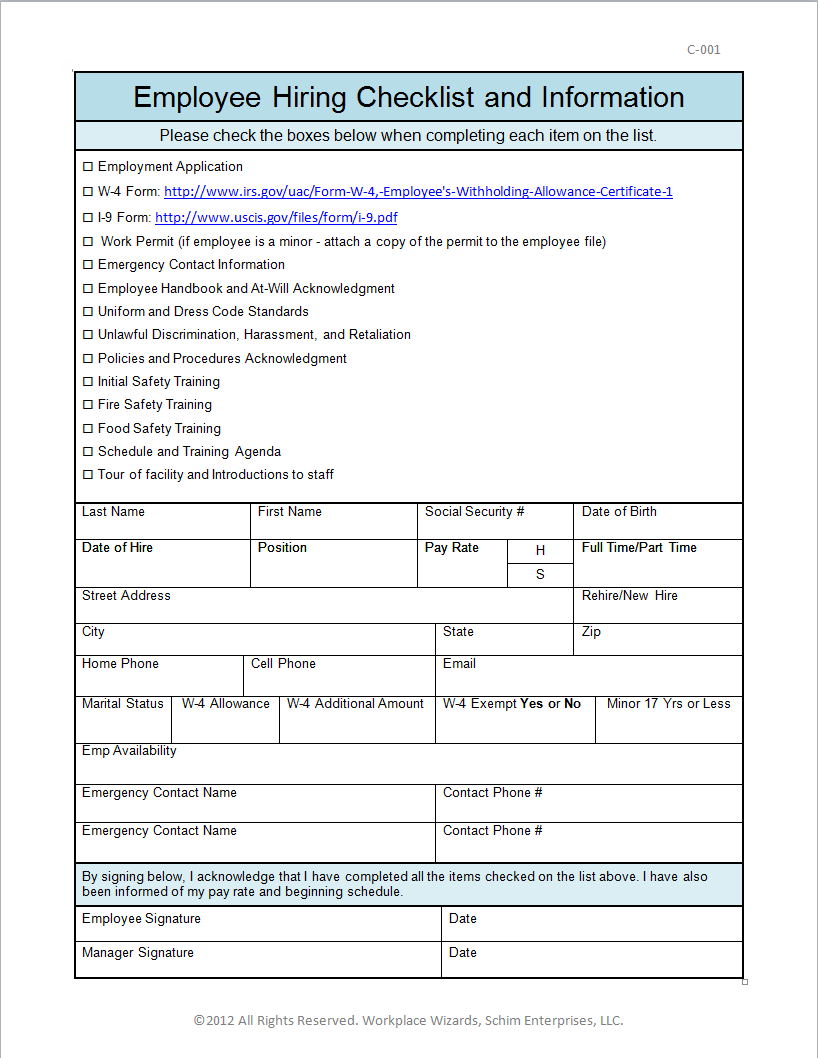checkbox: (80, 160, 95, 175), (79, 422, 94, 437), (80, 210, 96, 224), (80, 281, 96, 295), (79, 374, 95, 388), (81, 183, 94, 200), (81, 466, 94, 483), (81, 444, 94, 460), (81, 234, 94, 249), (80, 257, 95, 270), (81, 327, 94, 342), (81, 305, 95, 318), (80, 398, 94, 410), (82, 351, 93, 366)
textbox: (68, 735, 749, 792), (69, 582, 581, 630), (70, 815, 441, 867), (70, 777, 440, 826), (71, 900, 447, 947), (69, 937, 447, 983), (69, 618, 441, 663), (428, 778, 747, 829), (428, 650, 750, 700), (431, 817, 747, 867), (437, 935, 746, 984), (436, 900, 749, 946), (236, 650, 441, 703), (244, 533, 425, 592), (70, 534, 254, 592), (240, 496, 427, 552), (568, 534, 750, 591), (432, 690, 600, 750), (70, 496, 257, 548), (273, 692, 439, 750), (70, 651, 250, 702), (589, 692, 750, 749), (567, 497, 750, 547), (410, 497, 582, 549), (568, 583, 750, 627), (569, 616, 749, 658), (167, 691, 286, 749), (433, 618, 579, 662), (406, 531, 513, 590), (70, 691, 177, 747)
